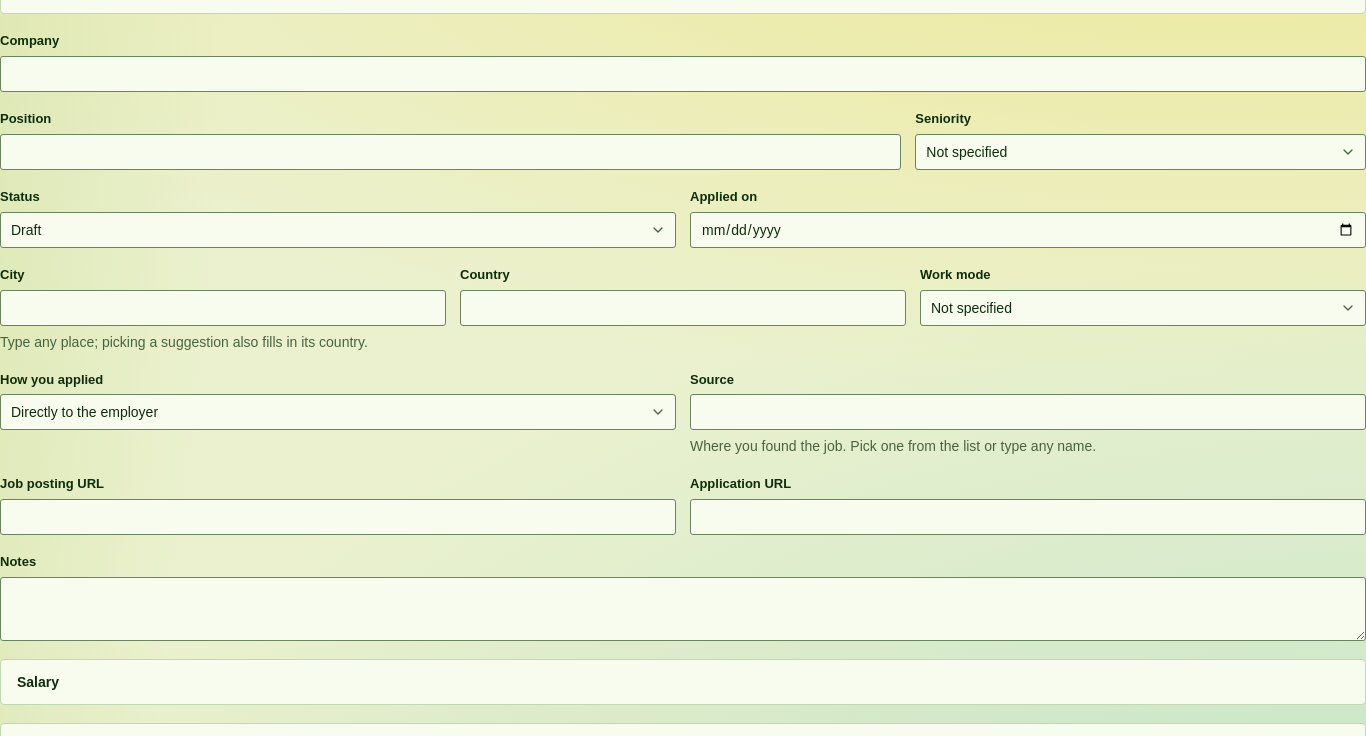
it: ApplicationForm › disables submitting while the save is pending
In the field labelled "Company": (683, 74) [0, 56, 1365, 92], type "Acme"
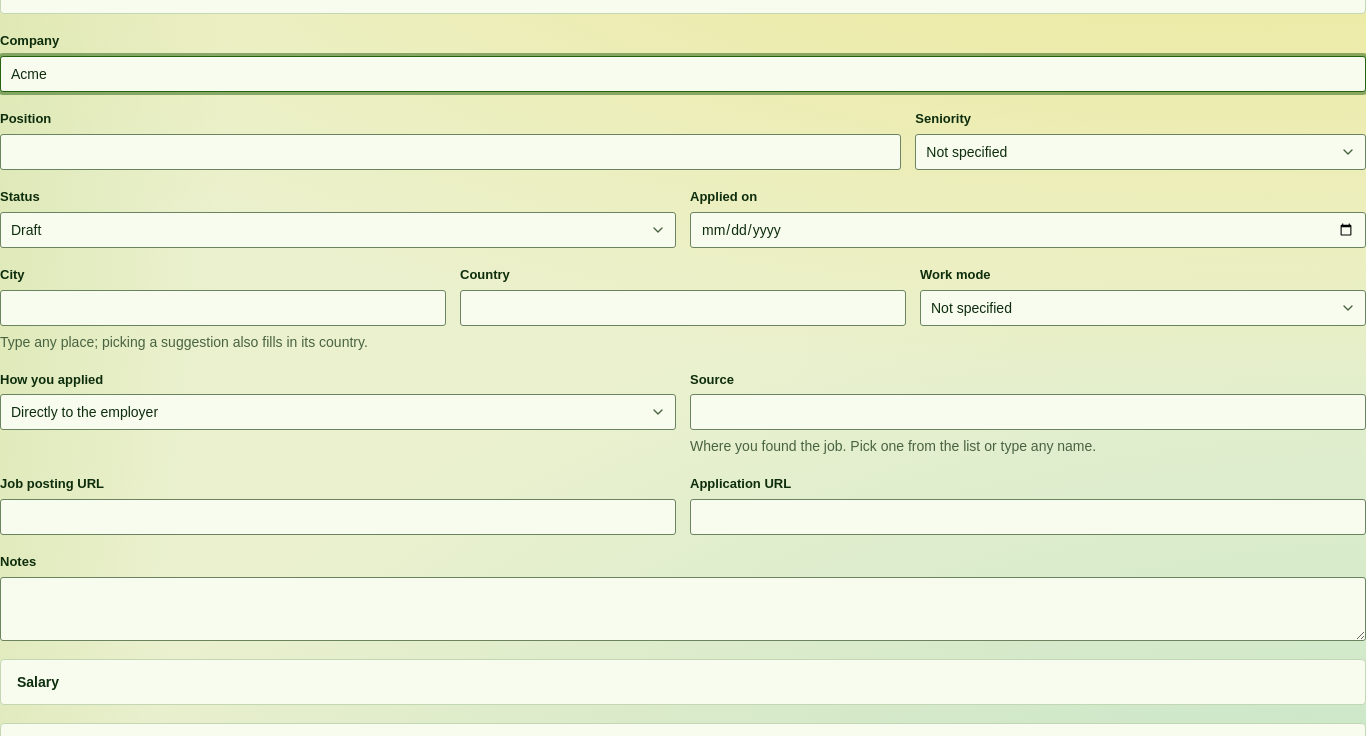
In the field labelled "Position": (451, 152) [0, 134, 901, 170], type "Engineer"
(page scrolled)
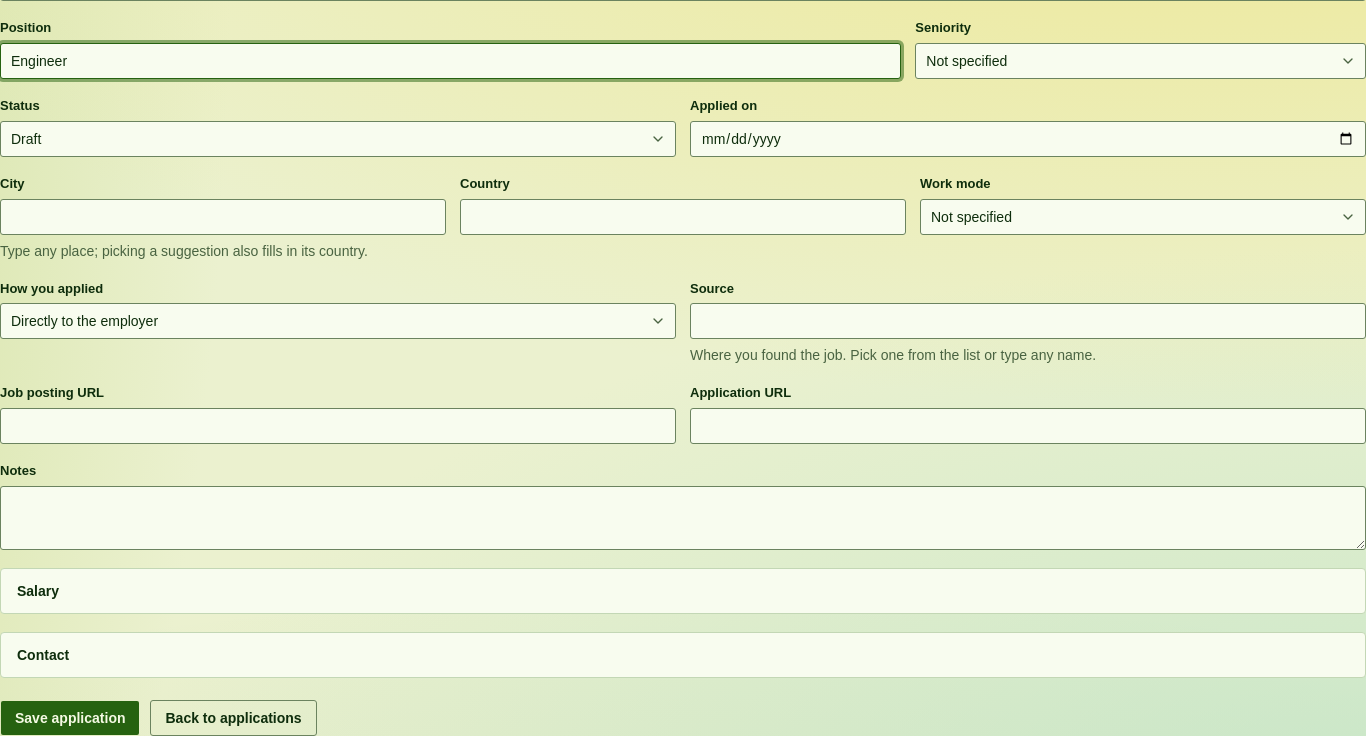
Click the button "Save application": (70, 718) [0, 700, 140, 735]
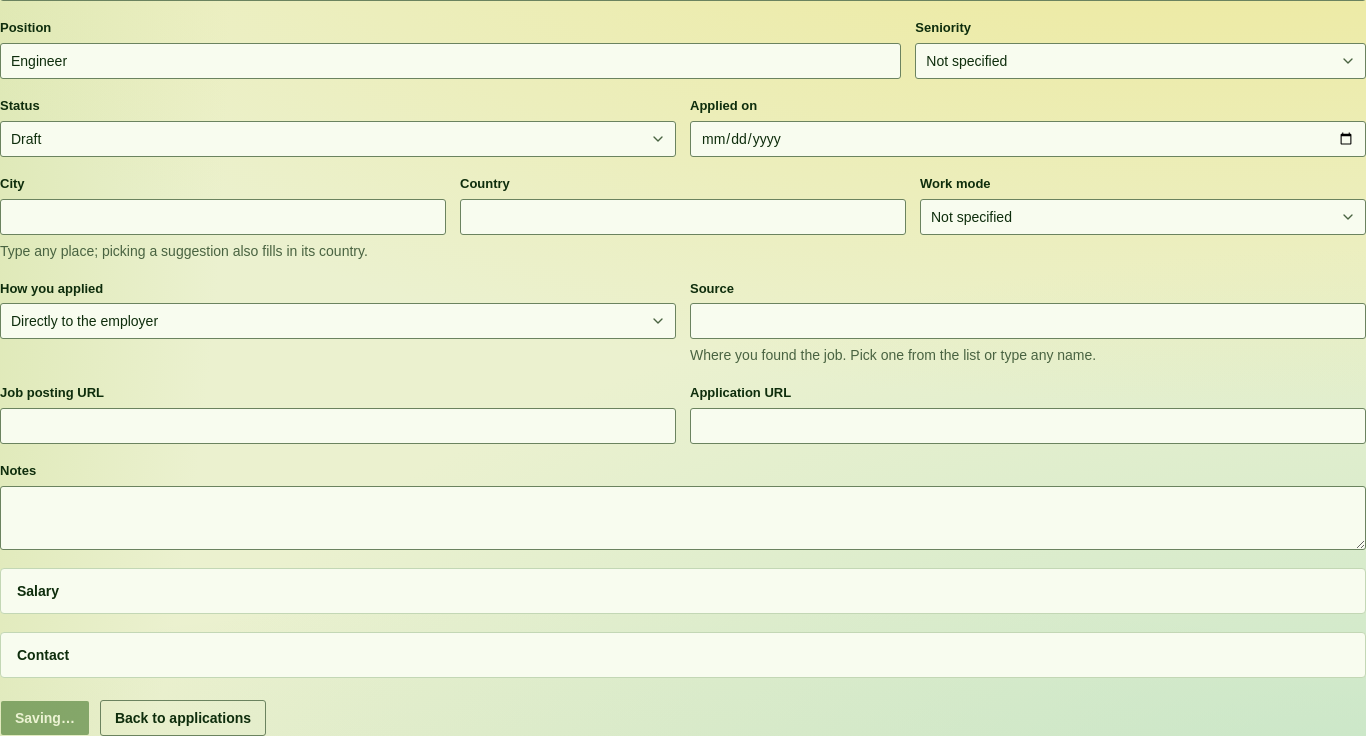
Expected: the button "Saving…" is disabled
Click the button "Saving…": (45, 718) [0, 700, 90, 735]
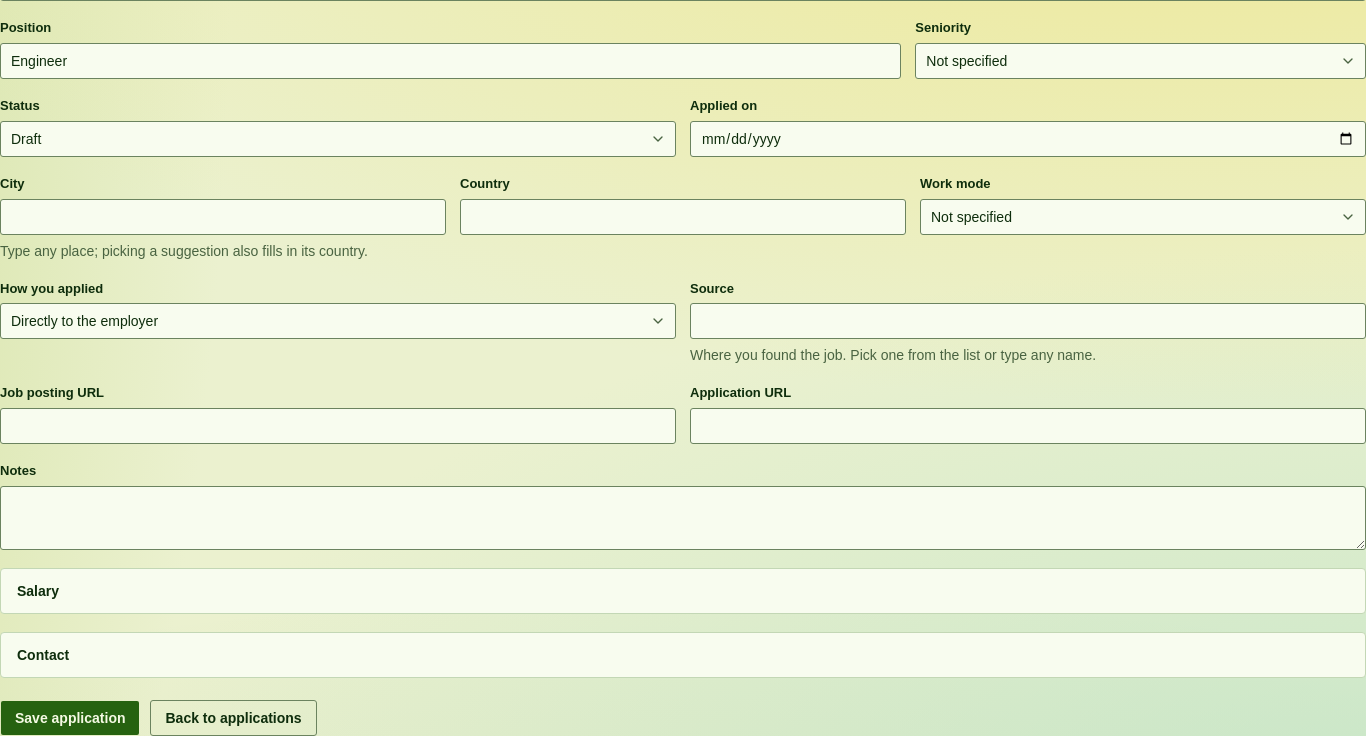
Expected: the button "Save application" is enabled, [0, 700, 140, 735]
